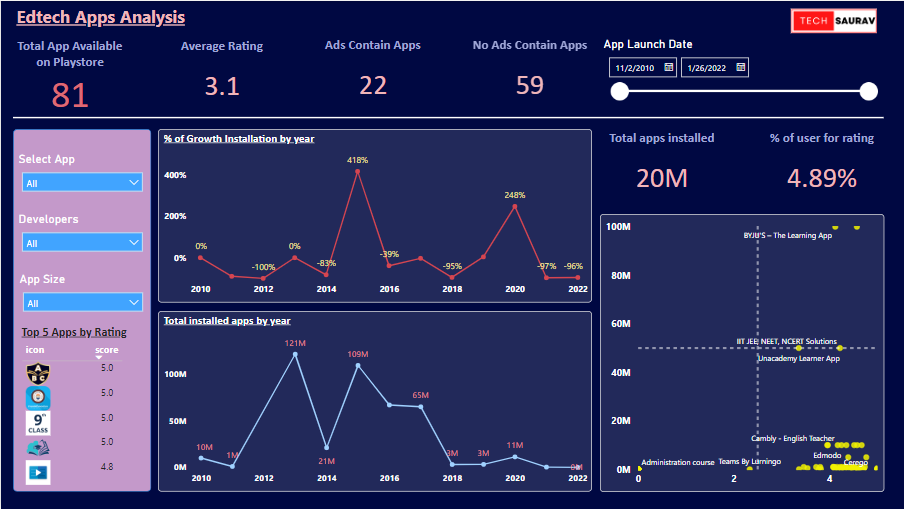

This screenshot's page, from the dashboard's own definition file:
{"tool":"powerbi","page":{"name":"Page 1","canvas":[1280,720],"ordinal":0},"visuals":[{"type":"card","title":"Total App Available on Playstore","fields":{"Values":["data.title"]},"box":[17,50.4,161.6,107.7],"z":0},{"type":"shape","box":[17,158.7,1234.5,12.8],"z":1000},{"type":"scatterChart","fields":{"X":["data.score"],"Category":["data.title"],"Y":["data.installs"]},"box":[849,301.9,402.5,394],"z":2000},{"type":"card","title":"Average Rating","fields":{"Values":["data.score"]},"box":[232,50.4,161.6,107.7],"z":2001},{"type":"shape","box":[17,181.4,195.6,514.5],"z":2002},{"type":"lineChart","title":"Total installed apps by year","fields":{"Y":["data.installs"],"Category":["data.released.Variation.Date Hierarchy.Year","data.released.Variation.Date Hierarchy.Quarter","data.released.Variation.Date Hierarchy.Month","data.released.Variation.Date Hierarchy.Day"]},"box":[223,439.1,615.2,256],"z":2003},{"type":"slicer","title":"App Launch Date","fields":{"Values":["data.released"]},"box":[849,51,402.5,107.7],"z":2004},{"type":"slicer","title":"Select App","fields":{"Values":["data.icon"]},"box":[20.1,214,191.3,73.7],"z":2005},{"type":"slicer","title":"Developers","fields":{"Values":["data.developer"]},"box":[20.1,299.1,191.3,73.7],"z":2006},{"type":"slicer","title":"App Size","fields":{"Values":["data.size"]},"box":[20.8,384.1,189.9,73.7],"z":2007},{"type":"card","title":"Ads Contain Apps","fields":{"Values":["Key_Measures.Ads_Contain_Apps"]},"box":[446.9,49.7,161.6,109.1],"z":2008},{"type":"card","title":"No Ads Contain Apps","fields":{"Values":["Key_Measures.Ads_NotContain_Apps"]},"box":[661.9,49.7,175.7,109.1],"z":2009},{"type":"lineChart","title":"% of Growth Installation by year","fields":{"Y":["Key_Measures.% Growth Installation"],"Category":["data.released.Variation.Date Hierarchy.Year","data.released.Variation.Date Hierarchy.Quarter","data.released.Variation.Date Hierarchy.Month","data.released.Variation.Date Hierarchy.Day"]},"box":[223,181.7,615.2,246.4],"z":2010},{"type":"textbox","box":[17,0,335.9,49.6],"z":2011},{"type":"tableEx","title":"Top 5 Apps by Rating","fields":{"Values":["data.icon","data.score"]},"box":[24.1,457.8,180,238.1],"z":2012},{"type":"image","box":[1108.3,5.7,143.1,45.4],"z":2013},{"type":"card","title":"Total apps installed","fields":{"Values":["data.ratings"]},"box":[849,181.4,175.7,109.1],"z":2014},{"type":"card","title":"% of user for rating","fields":{"Values":["Key_Measures.% of people punch rating"]},"box":[1075.7,181.4,175.7,109.1],"z":2015}]}

Visuals, with their boxes in screenshot pixels (x1, y1, x2, y2), scaled from the page's 1280x720 canvas onto the 904x509 screenshot:
"Total App Available on Playstore" card: <box>12,36,126,112</box>
shape: <box>12,112,884,121</box>
scatterChart - data.score x data.title: <box>600,213,884,492</box>
"Average Rating" card: <box>164,36,278,112</box>
shape: <box>12,128,150,492</box>
"Total installed apps by year" lineChart: <box>157,310,592,491</box>
"App Launch Date" slicer: <box>600,36,884,112</box>
"Select App" slicer: <box>14,151,149,203</box>
"Developers" slicer: <box>14,211,149,264</box>
"App Size" slicer: <box>15,272,149,324</box>
"Ads Contain Apps" card: <box>316,35,430,112</box>
"No Ads Contain Apps" card: <box>467,35,592,112</box>
"% of Growth Installation by year" lineChart: <box>157,128,592,303</box>
textbox: <box>12,0,249,35</box>
"Top 5 Apps by Rating" tableEx: <box>17,324,144,492</box>
image: <box>783,4,884,36</box>
"Total apps installed" card: <box>600,128,724,205</box>
"% of user for rating" card: <box>760,128,884,205</box>
